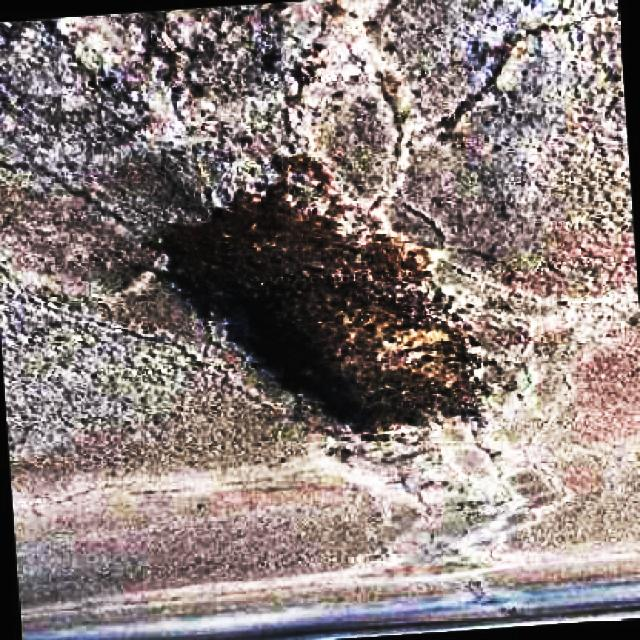pothole: (143, 142, 502, 456)
